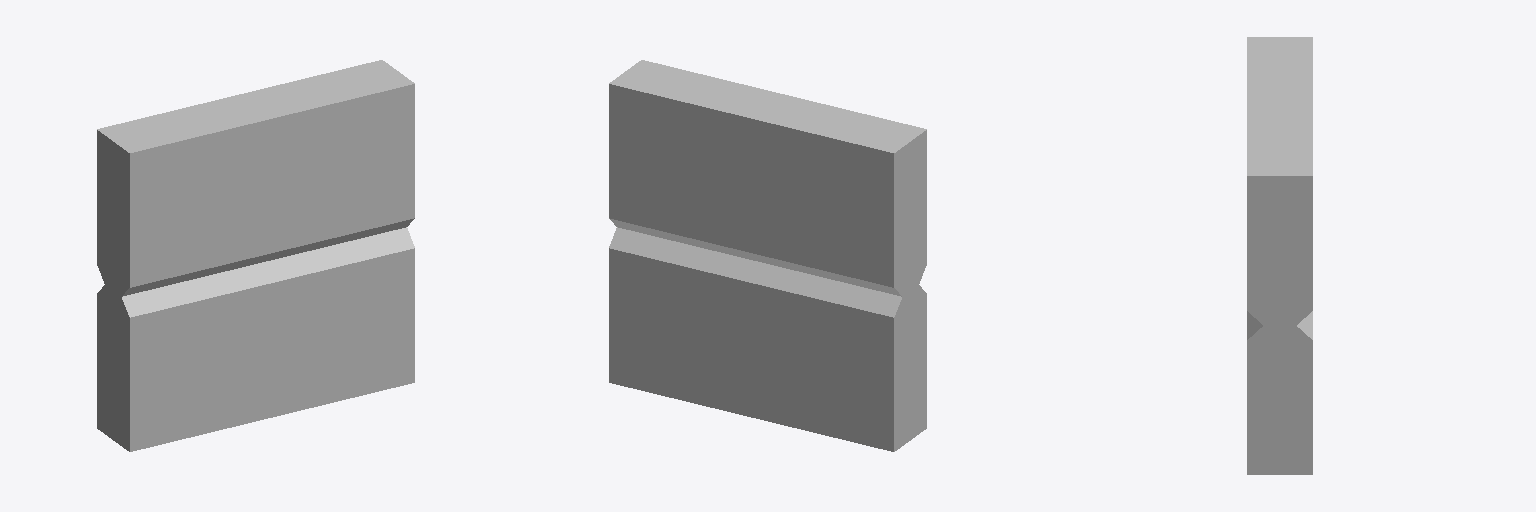
Rendered from 2_wall_etched_side.obj.
3 views of the same model, side by side, from view 1: azimuth 30°, elevation 25°; view 2: azimuth 150°, elevation 25°; view 3: azimuth 270°, elevation 25° (orthographic).
Parts seen in each view (by area): view 1: object1; view 2: object1; view 3: object1.
Part boxes in pixels (x1,y1,x2,y2): object1: (97, 60, 414, 451); object1: (609, 60, 926, 451); object1: (1247, 37, 1312, 474).
Size of the model in its own units: 1 by 1 by 0.2.